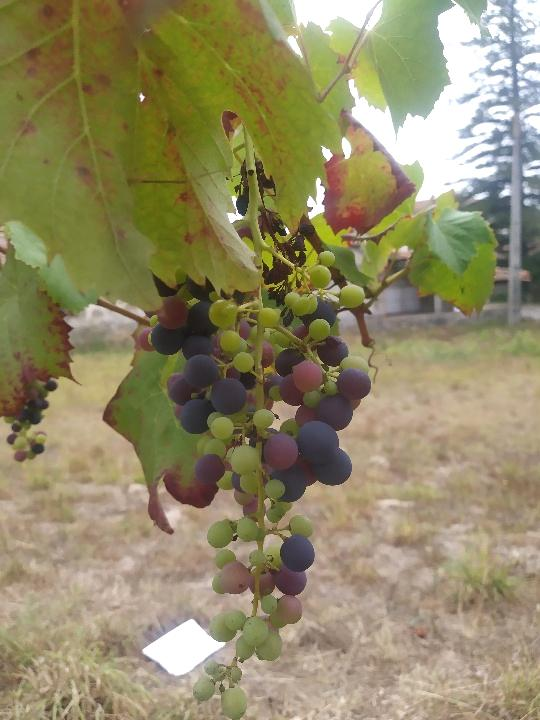grape: (144, 161, 372, 718)
